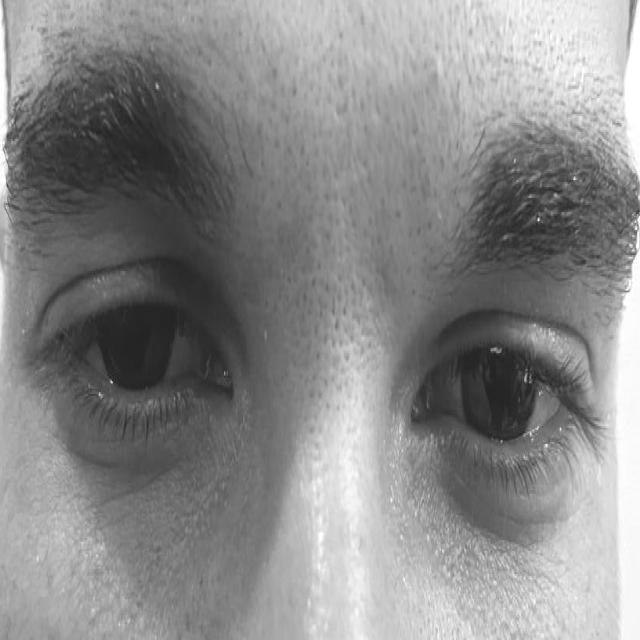real: (20, 115, 618, 591)
